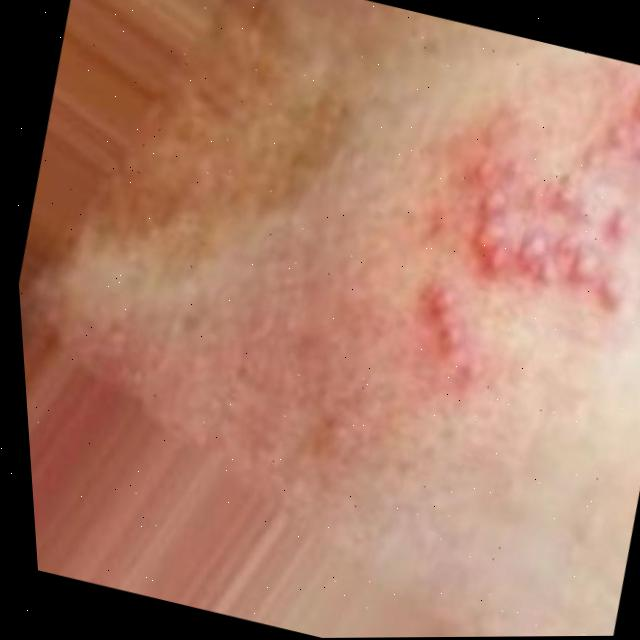Shingles: (373, 29, 640, 420)
